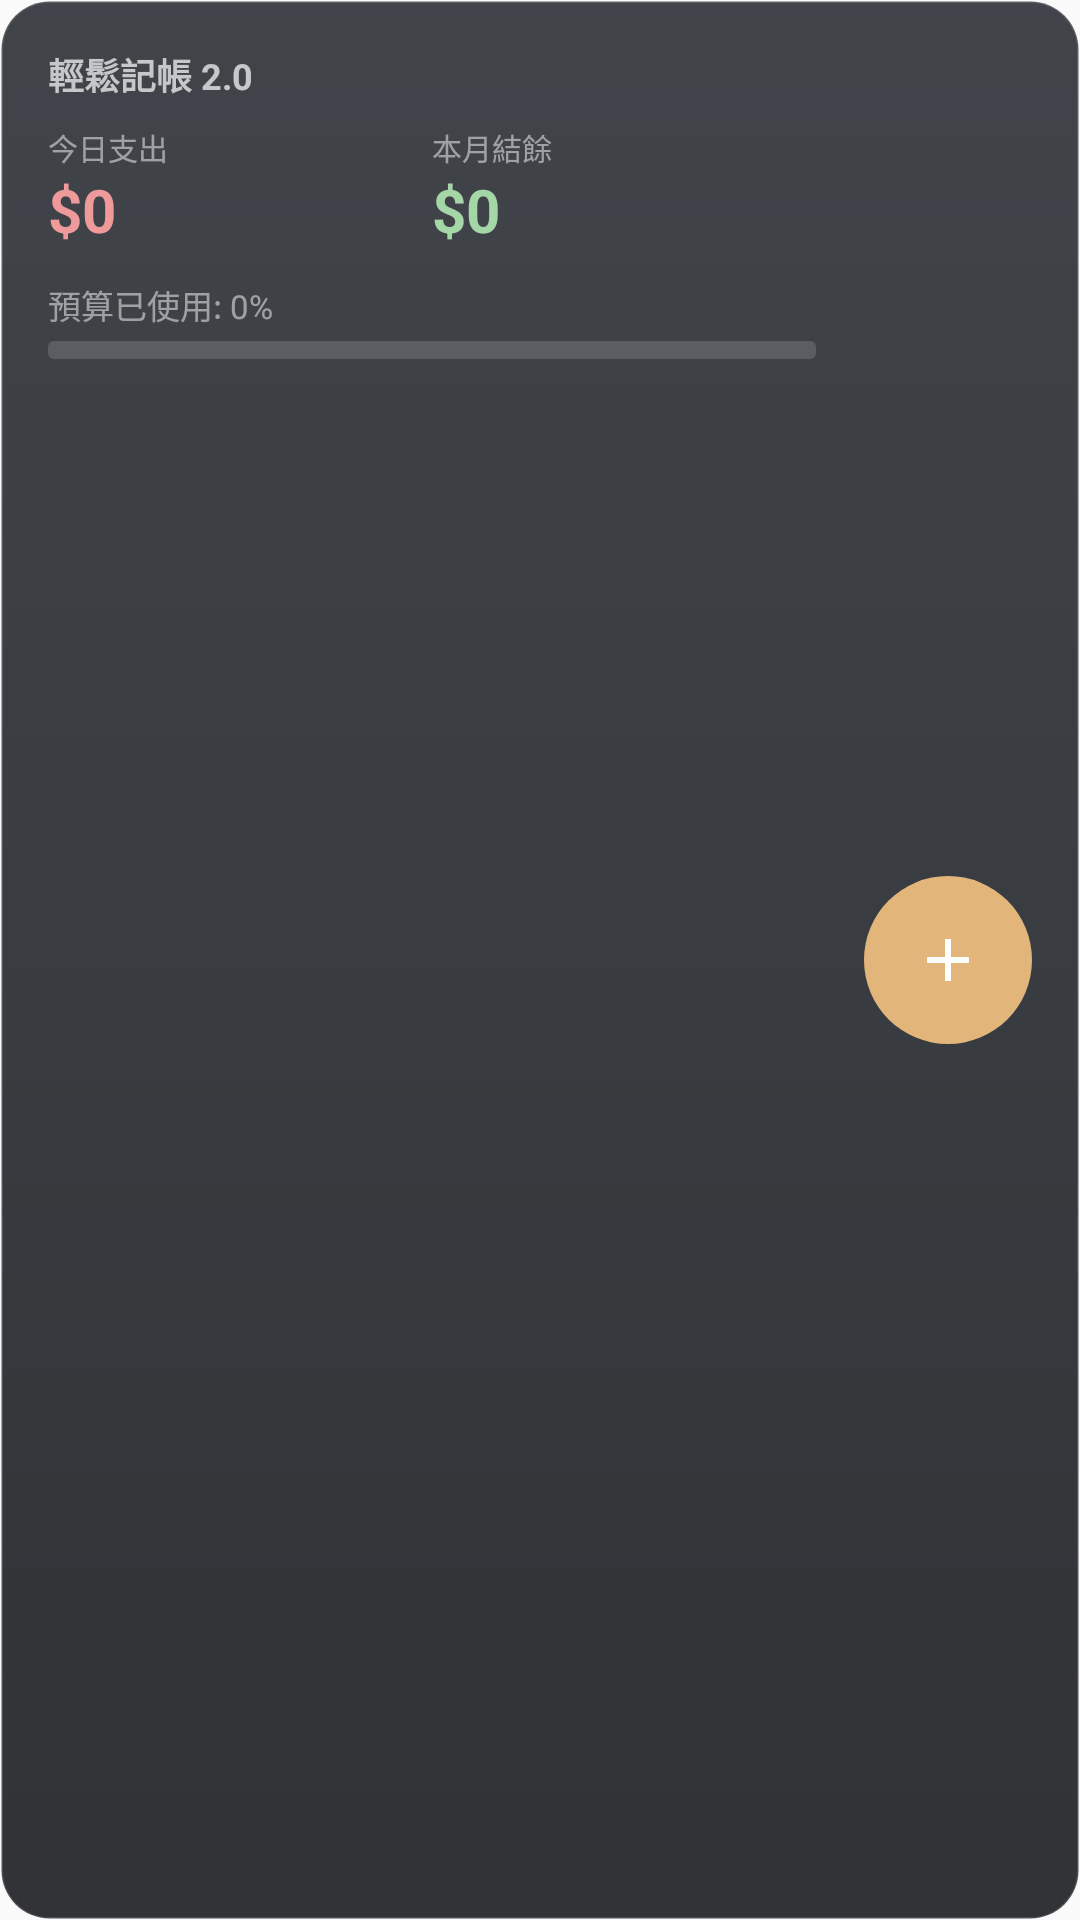

Icons on this 1080 × 1920 Android screen, each with the point to tap as point (x, y):
快速記帳: point (948, 960)
